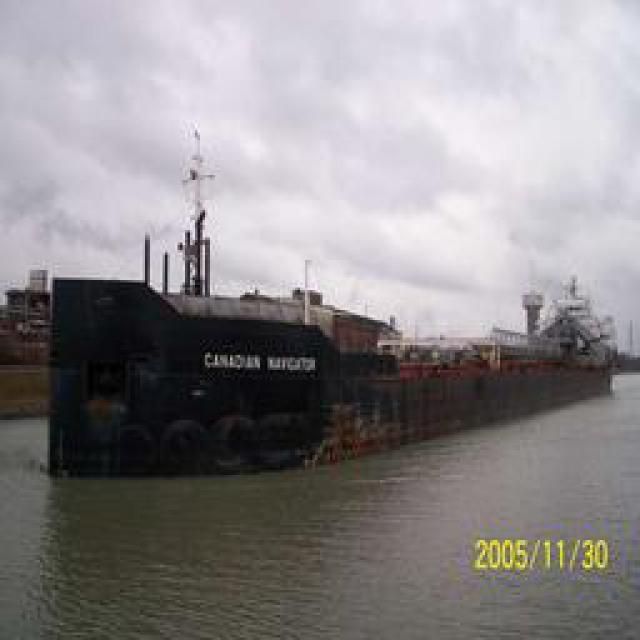Ship: (40, 123, 625, 484)
